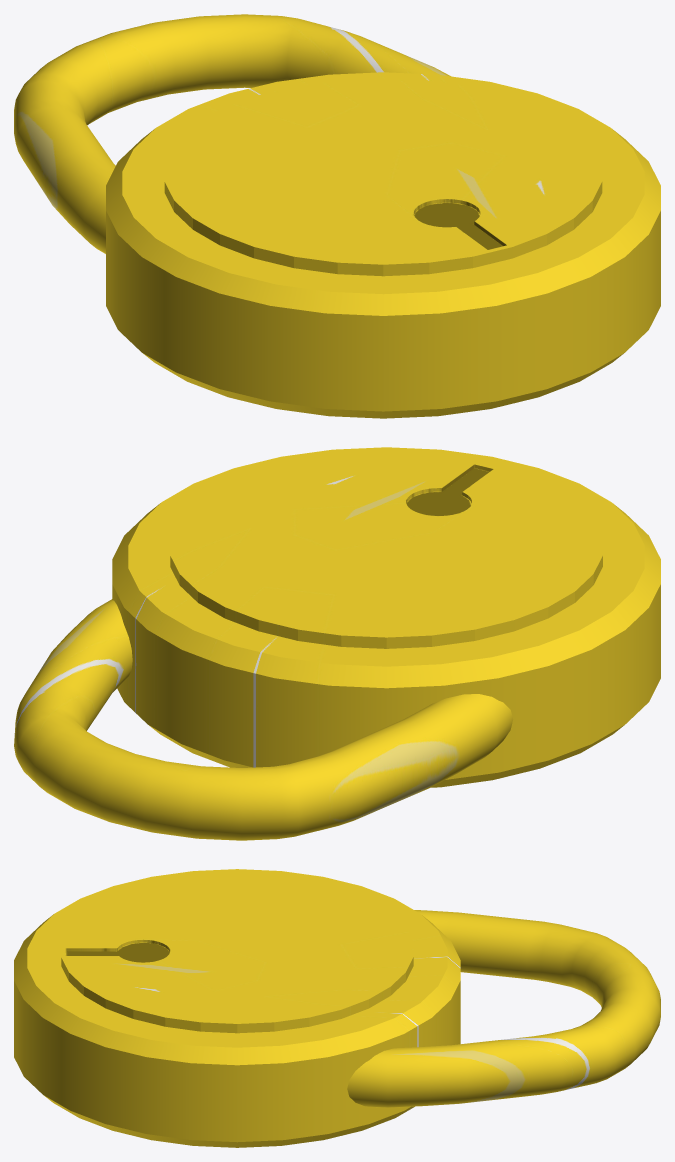
Rendered from khoa.fbx.
3 renders of one model, top to bottom at view 1: azimuth 30°, elevation 25°; view 2: azimuth 150°, elevation 25°; view 3: azimuth 270°, elevation 25°, orthographic. The views are drawn at different scales.
Parts seen in each view (by area): view 1: pTorus2; view 2: pTorus2; view 3: pTorus2.
Boxes of the visible parts, box(x1,y1,x2,y2) form: pTorus2: box(14, 14, 660, 418); pTorus2: box(14, 447, 660, 840); pTorus2: box(14, 869, 660, 1147).
Bounding box in the file's own units: 1.33 × 0.3562 × 1.92.
1 material, 1 textured.
